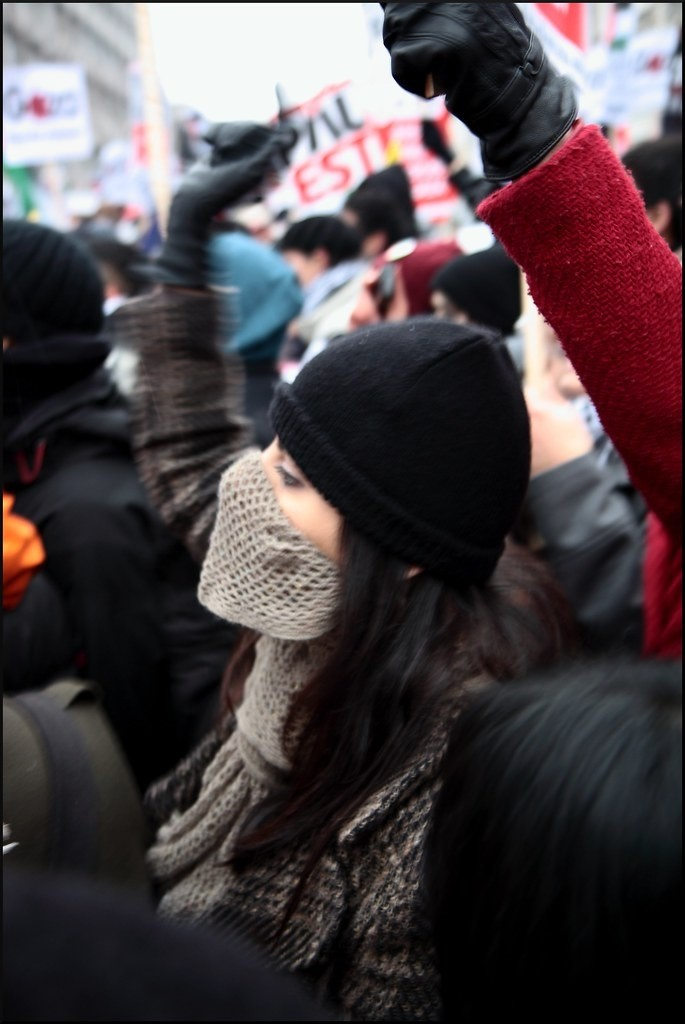face_with_mask: (204, 339, 446, 623)
